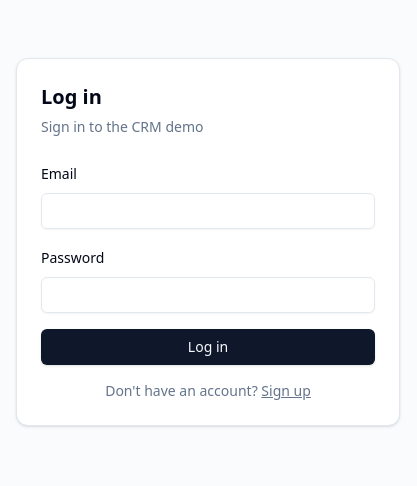
Test: sign-up flow › links between the login and sign-up screens
The image size is (417, 486).
Click the link "Sign up": (286, 390) 261,381 -> 311,400
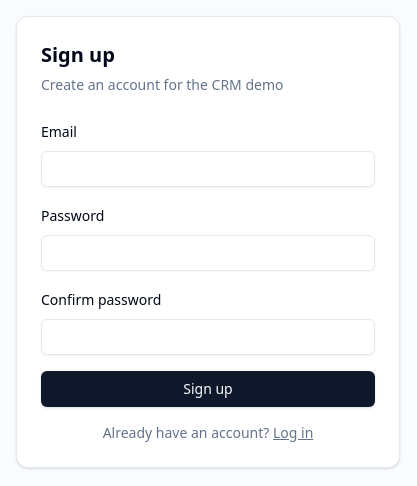
Check: the heading "Sign up" is shown, box 41,41 -> 115,68
Click the link "Log in": (293, 432) 273,423 -> 313,442
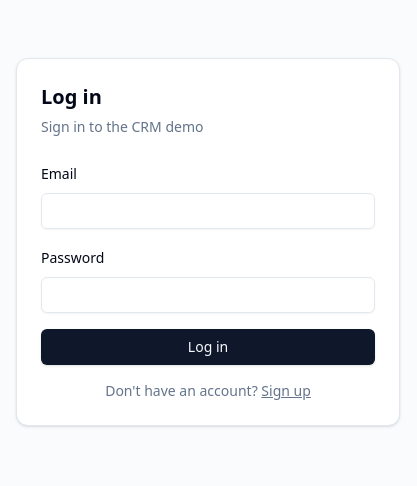
Check: the heading "Log in" is shown, box 41,83 -> 102,110
